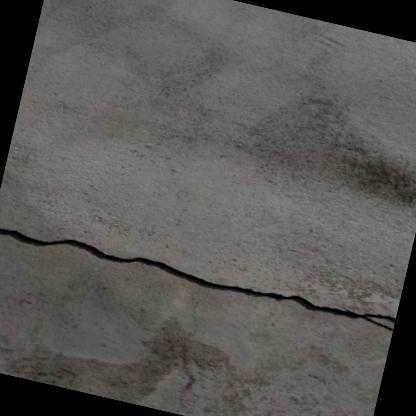crack: (0, 225, 396, 323)
